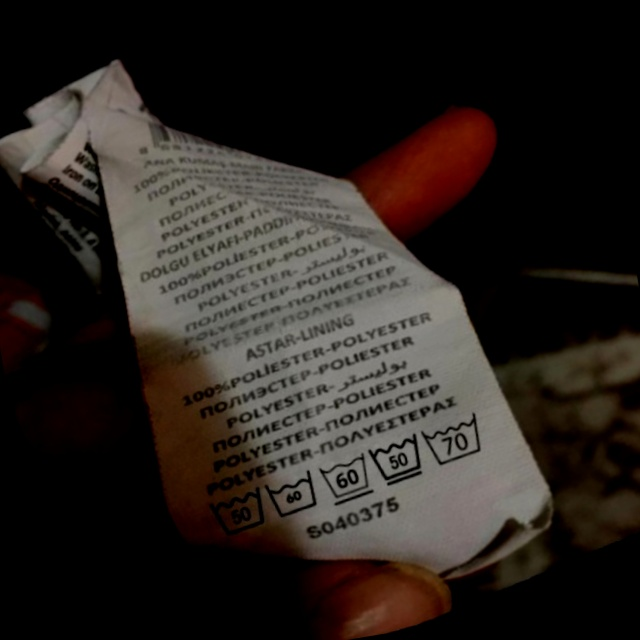50C: (194, 470, 284, 553), (357, 420, 441, 500)
60C: (309, 439, 389, 516), (255, 457, 335, 532)
70C: (413, 399, 503, 478)
